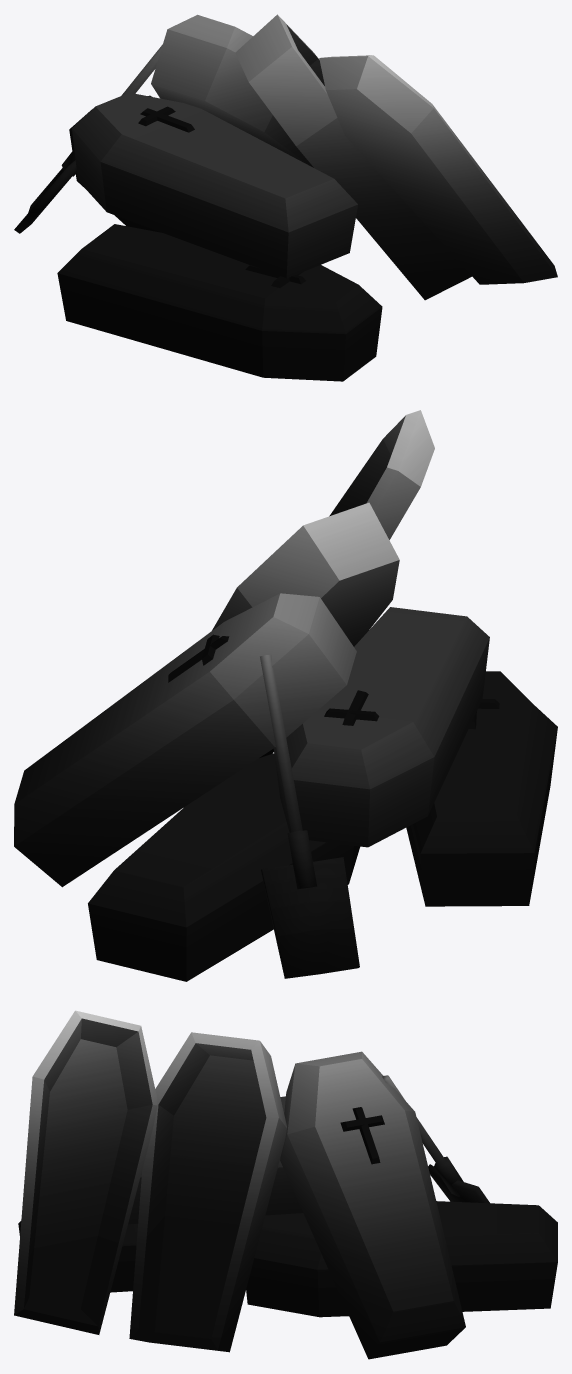
Rendered from Cover5.glb.
3 views of the same model, one above another, from view 1: azimuth 30°, elevation 25°; view 2: azimuth 150°, elevation 25°; view 3: azimuth 270°, elevation 25° (orthographic). The views are drawn at different scales.
Visible parts, largest first — view 1: Cover5; view 2: Cover5; view 3: Cover5.
Part boxes in pixels (x1=…): Cover5: x1=14, y1=14, x2=557, y2=381; Cover5: x1=14, y1=410, x2=557, y2=981; Cover5: x1=14, y1=1010, x2=557, y2=1359.
Size of what is drawn, in the model's own units: 4.33 by 3.23 by 5.55.
1 material, 1 textured.
